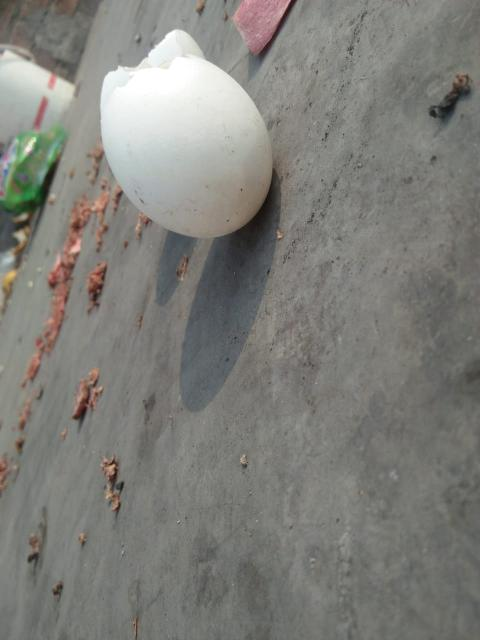Roto: (98, 28, 274, 239)
